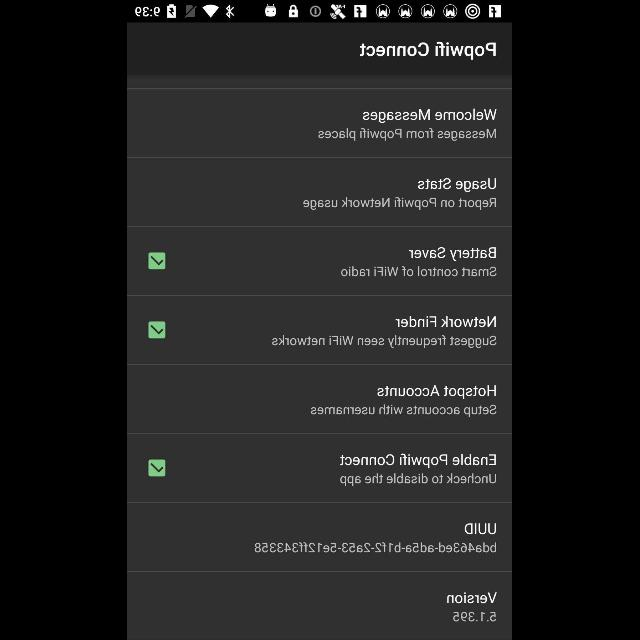checkbox: (149, 459, 167, 477), (149, 321, 167, 339), (149, 252, 167, 270)
text: (272, 336, 498, 348), (311, 404, 497, 418), (319, 128, 497, 142), (360, 42, 496, 60), (255, 542, 497, 552), (304, 198, 496, 210), (341, 454, 497, 468), (363, 108, 497, 124), (341, 474, 497, 486), (378, 385, 497, 399), (342, 266, 498, 276), (409, 246, 496, 262), (397, 315, 498, 327), (419, 178, 497, 192), (448, 592, 498, 604), (454, 612, 496, 622), (465, 523, 497, 535)
toolbar: (128, 23, 512, 76)
uppertaskbar: (128, 1, 512, 23)
